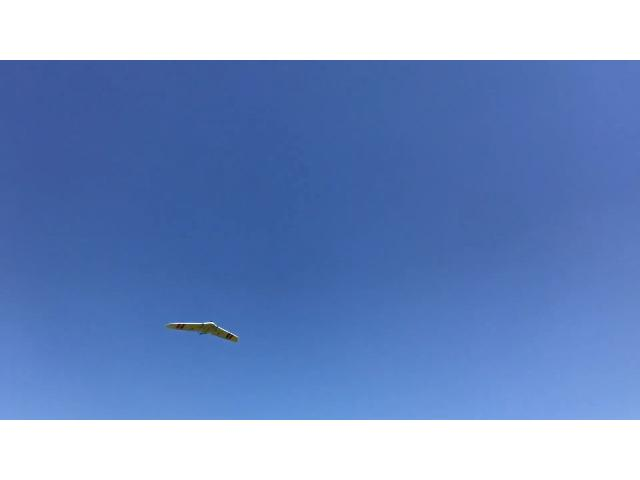Anti-Drone: (165, 310, 243, 346)
